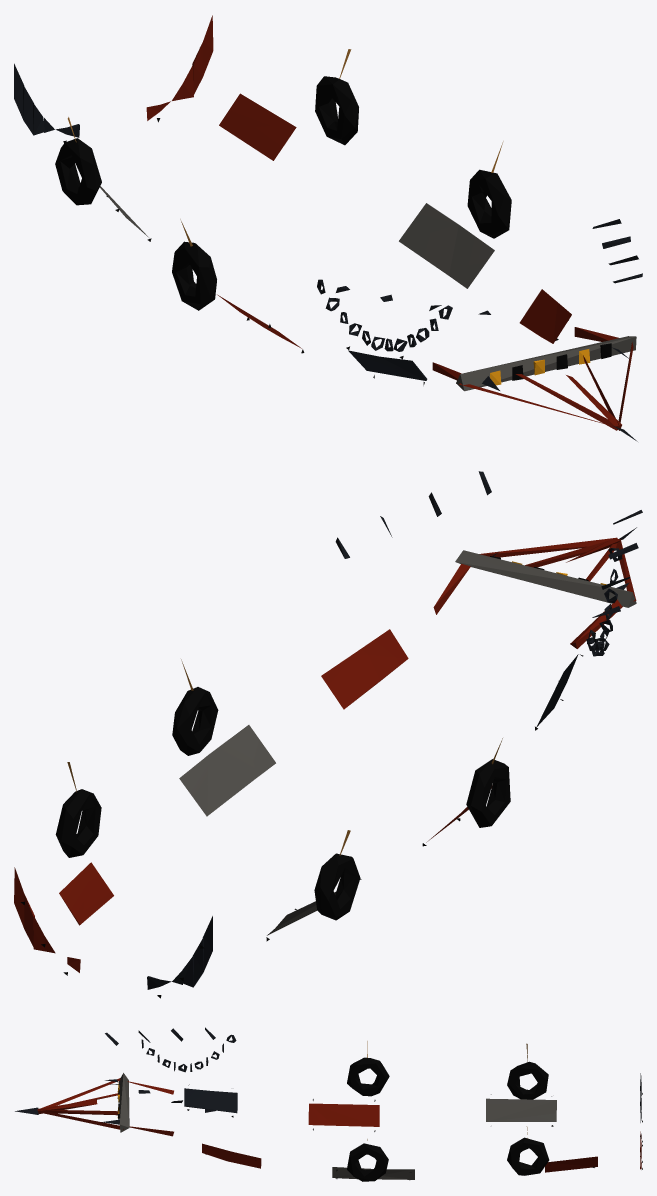
File: tb_sloop_scrap.three-web-toon.lod25.glb
3 views of the same model, one above another, from view 1: azimuth 30°, elevation 25°; view 2: azimuth 150°, elevation 25°; view 3: azimuth 270°, elevation 25° (orthographic). The views are drawn at different scales.
Visible parts, largest first — view 1: tb_sloop_scrap_mesh_lod; view 2: tb_sloop_scrap_mesh_lod; view 3: tb_sloop_scrap_mesh_lod.
Part boxes in pixels (x1,y1,x2,y2): tb_sloop_scrap_mesh_lod: (14, 15, 642, 441); tb_sloop_scrap_mesh_lod: (14, 471, 642, 998); tb_sloop_scrap_mesh_lod: (15, 1027, 642, 1181).
Size of the model in its own units: 3.8 by 1.9 by 10.68.
